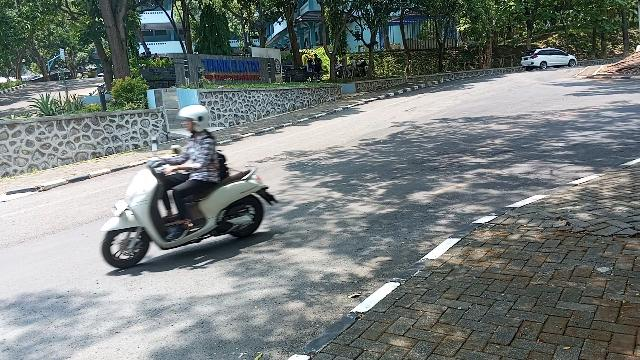helm: (179, 104, 212, 136)
motor: (98, 134, 282, 272)
